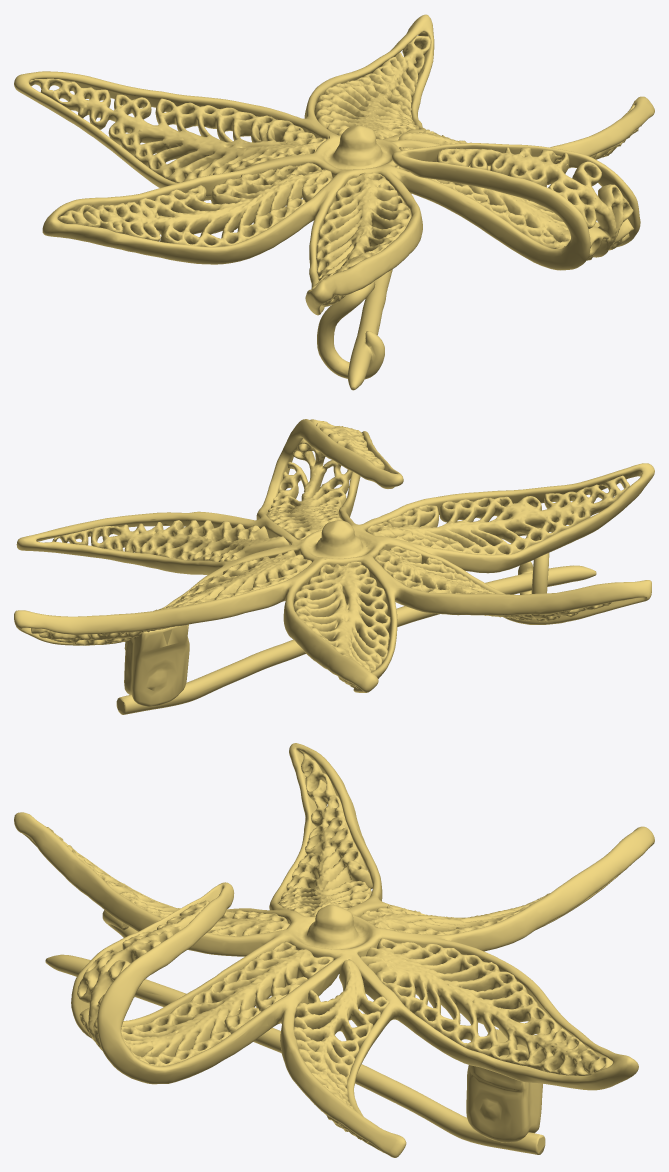
File: PHE0000105.glb
The picture shows the model from 3 angles, top to bottom: view 1: azimuth 30°, elevation 25°; view 2: azimuth 150°, elevation 25°; view 3: azimuth 270°, elevation 25°; orthographic projection. The views are drawn at different scales.
Visible parts, largest first — view 1: material.003; view 2: material.003; view 3: material.003.
Part boxes in pixels (left/top/right/bottom): material.003: left=14, top=14, right=654, bottom=390; material.003: left=14, top=419, right=654, bottom=714; material.003: left=14, top=743, right=654, bottom=1157.
Size of the model in its own units: 29.23 by 8.36 by 24.11.
